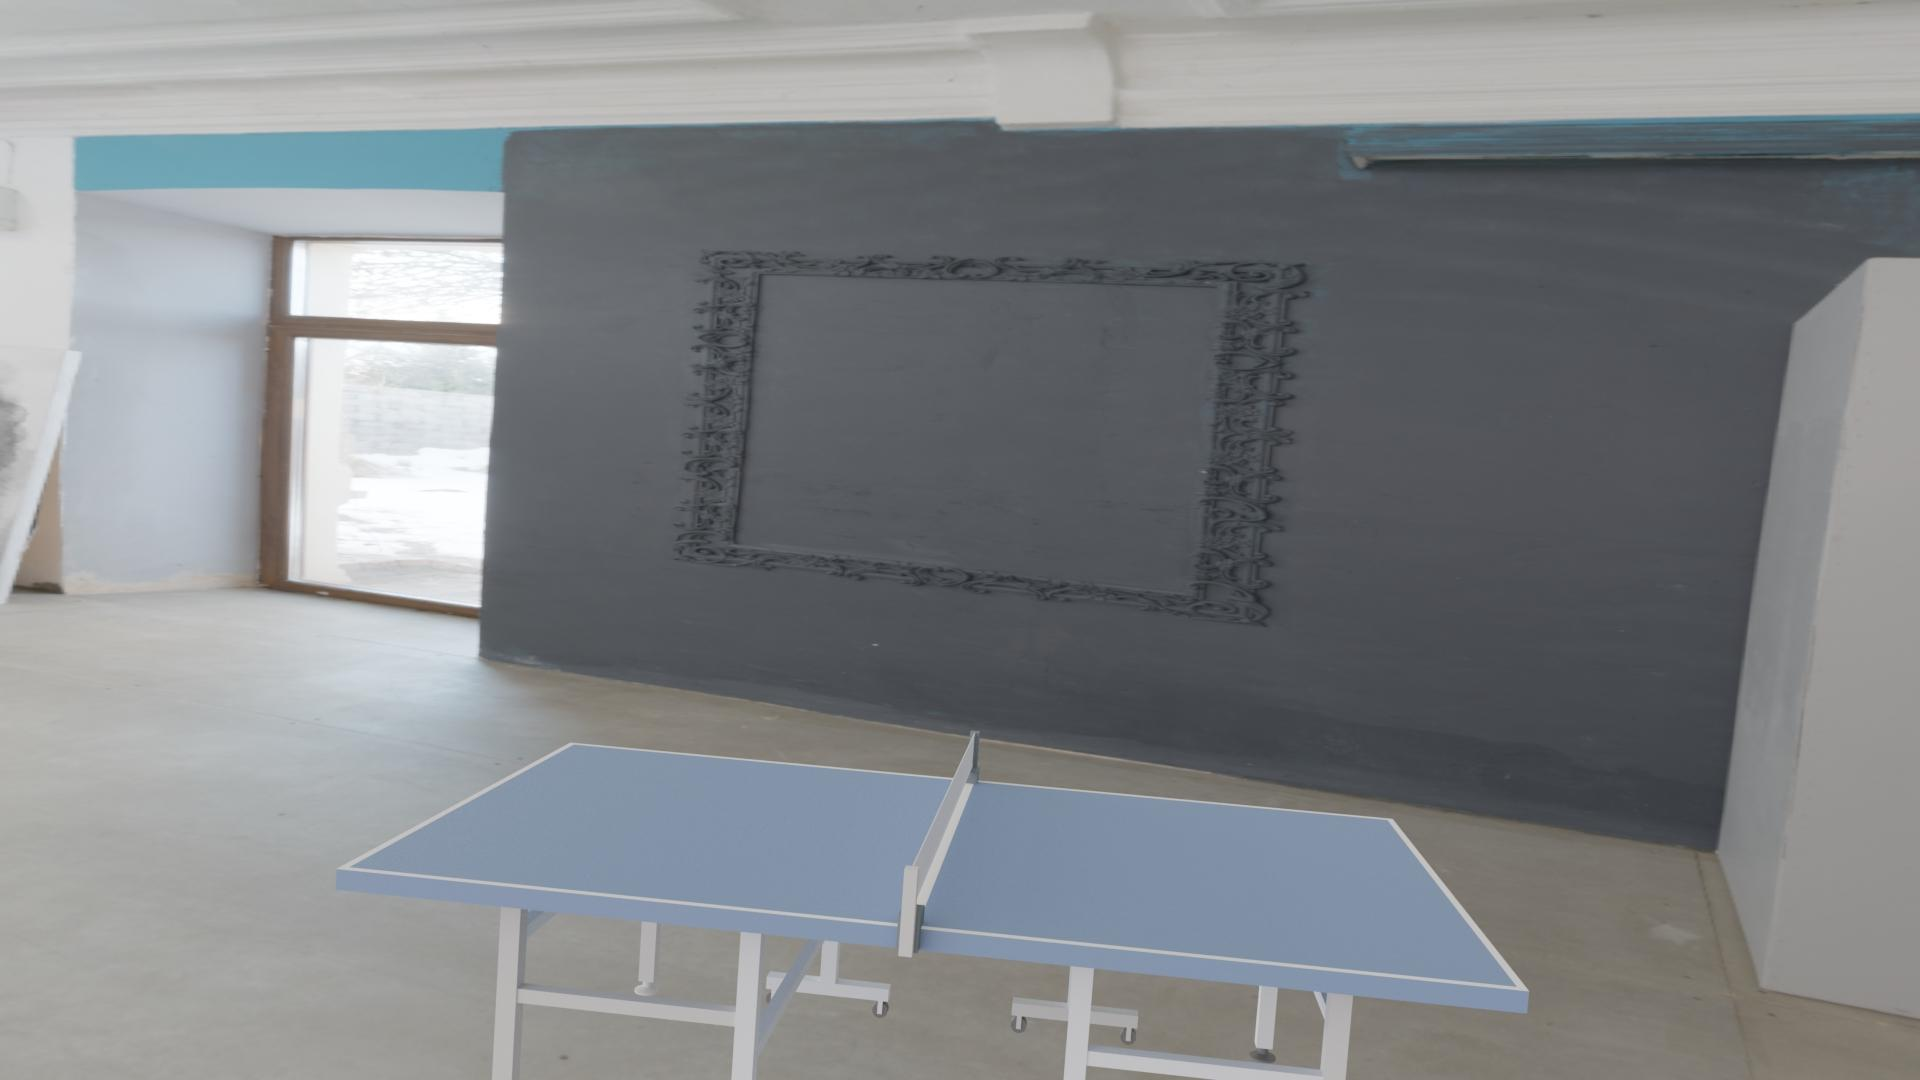table: (349, 744, 1518, 986)
